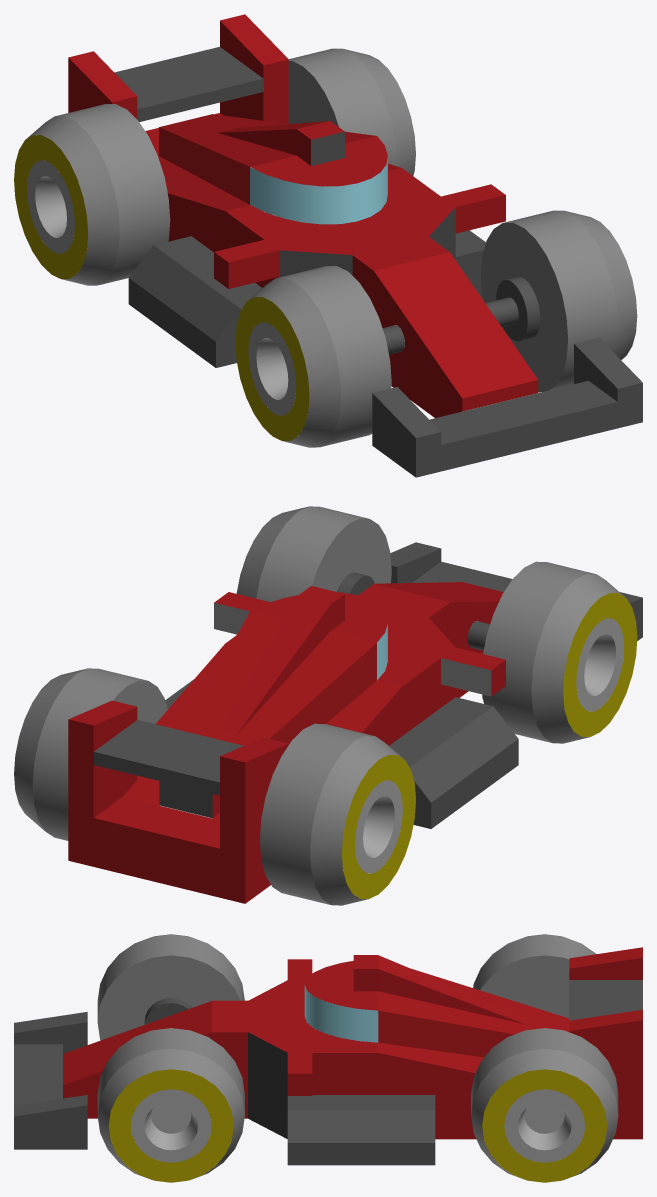
Rendered from race-car.glb.
The picture shows the model from 3 angles, top to bottom: view 1: azimuth 30°, elevation 25°; view 2: azimuth 150°, elevation 25°; view 3: azimuth 270°, elevation 25°; orthographic projection. The views are drawn at different scales.
Visible parts, largest first — view 1: body.005, wheel_frontRight.005, wheel_backRight.005, wheel_frontLeft.005, wheel_backLeft.005; view 2: body.005, wheel_backRight.005, wheel_frontRight.005, wheel_backLeft.005, wheel_frontLeft.005; view 3: body.005, wheel_frontLeft.005, wheel_backLeft.005, wheel_frontRight.005, wheel_backRight.005.
Part boxes in pixels (<box>): body.005: <box>68,14,642,477</box>; wheel_frontRight.005: <box>235,266,391,447</box>; wheel_backRight.005: <box>14,104,170,285</box>; wheel_frontLeft.005: <box>481,210,637,392</box>; wheel_backLeft.005: <box>288,48,415,224</box>; body.005: <box>68,542,642,903</box>; wheel_backRight.005: <box>259,723,415,905</box>; wheel_frontRight.005: <box>482,561,637,743</box>; wheel_backLeft.005: <box>14,668,167,840</box>; wheel_frontLeft.005: <box>236,506,391,601</box>; body.005: <box>14,947,642,1165</box>; wheel_frontLeft.005: <box>97,1028,244,1182</box>; wheel_backLeft.005: <box>471,1028,618,1182</box>; wheel_frontRight.005: <box>97,934,244,1040</box>; wheel_backRight.005: <box>473,934,596,1018</box>.
Bounding box in the file's own units: 2.54 × 1.43 × 5.
